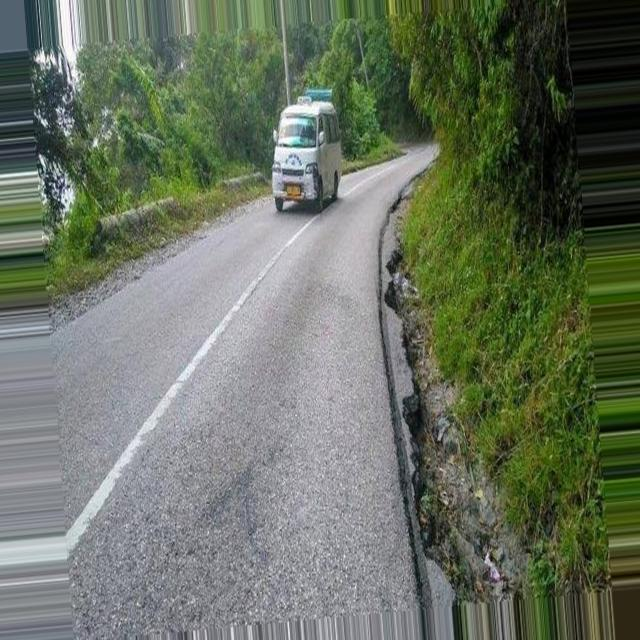Pinggir: (353, 183, 517, 630)
